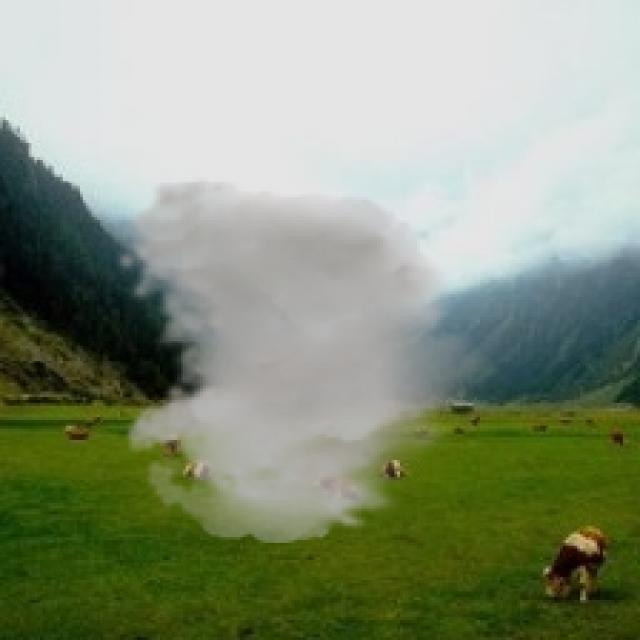Smoke: (114, 177, 500, 543)
